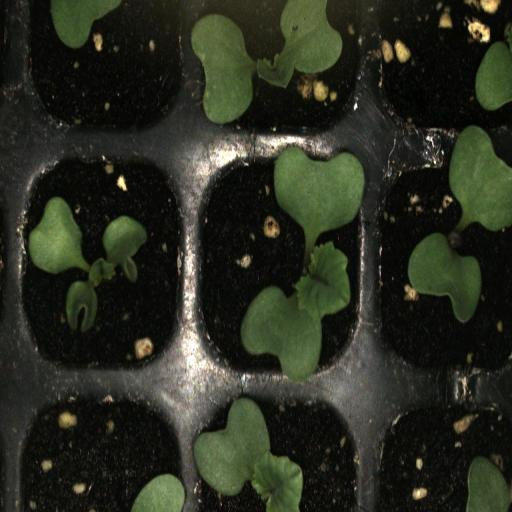Folha: (408, 233, 481, 321), (51, 0, 122, 49), (466, 456, 512, 512), (475, 42, 512, 111), (131, 473, 188, 512)
Germinacao: (192, 151, 371, 386), (17, 151, 192, 375), (373, 149, 512, 387), (196, 0, 368, 150), (190, 389, 373, 512)
